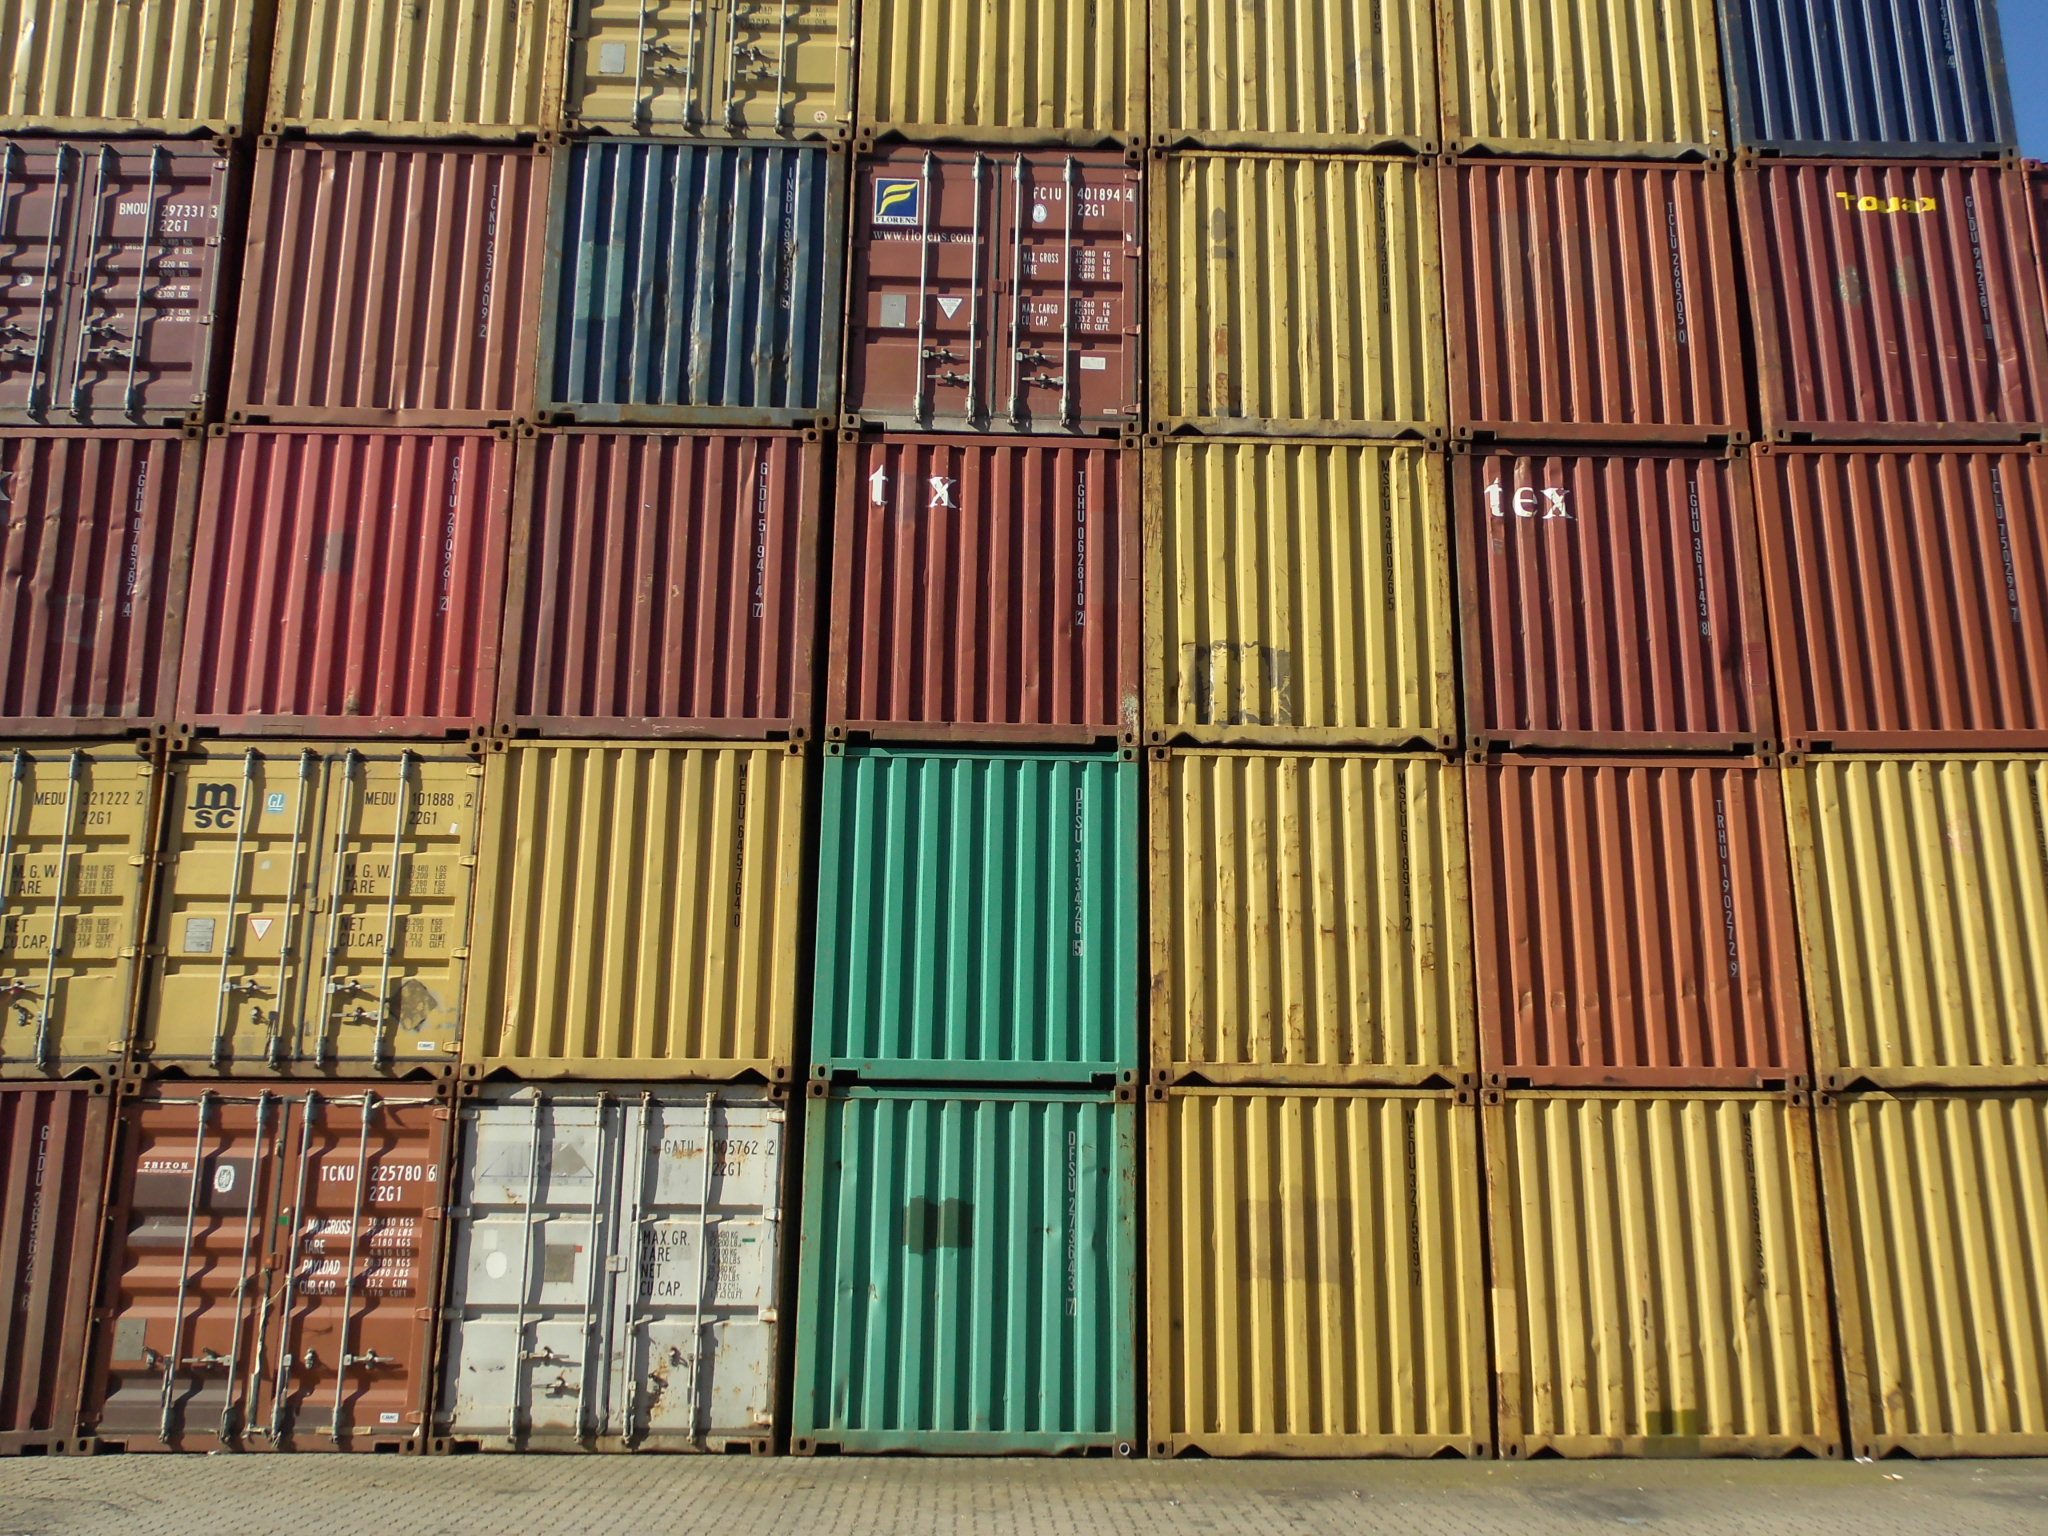container_door: (53, 1078, 460, 1449), (127, 744, 492, 1071), (485, 1092, 795, 1459), (868, 142, 1138, 434), (11, 142, 210, 416)
container_no_door: (1151, 1096, 1479, 1446), (800, 736, 1127, 1086), (487, 737, 814, 1087), (801, 1097, 1129, 1447), (1147, 737, 1472, 1087), (1463, 758, 1779, 1086), (1498, 1117, 1814, 1442), (1751, 449, 2048, 744), (1469, 453, 1764, 749), (1824, 1092, 2046, 1463), (1793, 765, 2046, 1079), (1168, 452, 1442, 742), (547, 140, 826, 415), (210, 440, 489, 715), (522, 445, 801, 720), (1168, 152, 1445, 426), (1455, 161, 1732, 436), (256, 139, 535, 411), (1753, 168, 2030, 440), (840, 444, 1118, 716)
